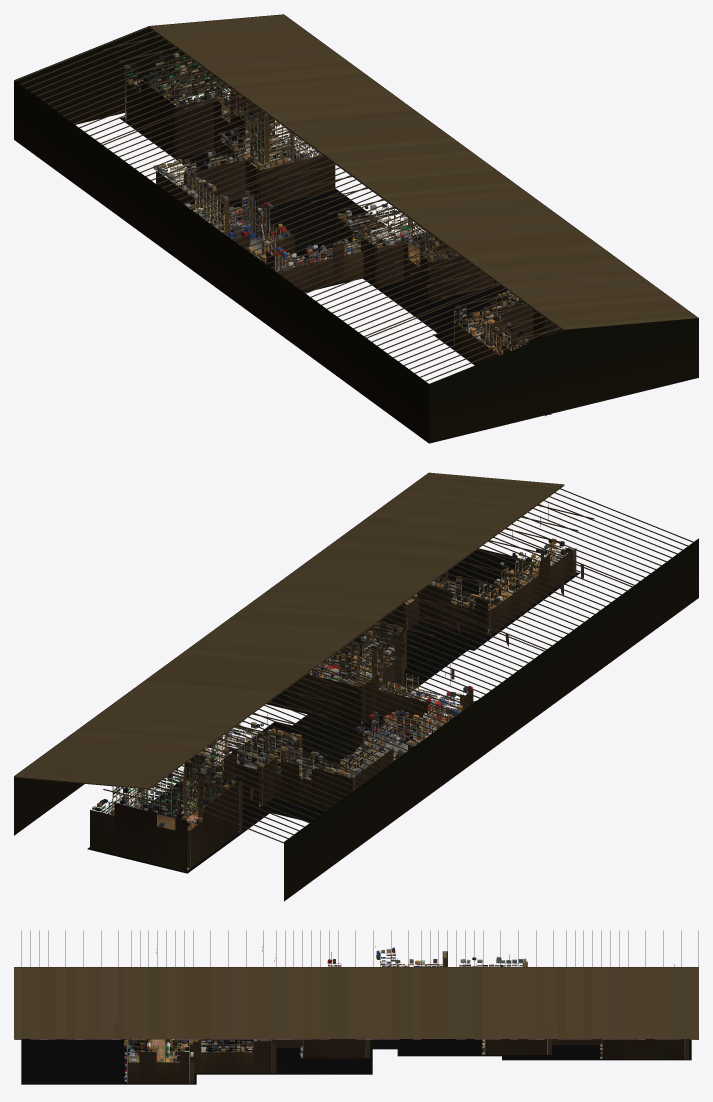
Rendered from attic_deep.glb.
3 views of the same model, one above another, from view 1: azimuth 30°, elevation 25°; view 2: azimuth 150°, elevation 25°; view 3: azimuth 270°, elevation 25° (orthographic). The views are drawn at different scales.
Parts seen in each view (by area): view 1: deep_roof_4, deep_roof_0, deep_roof_3, deep_roof_2, deep_roof_1, deep_metal, deep_members, deep_boss, deep_robotics, deep_holiday; view 2: deep_roof_0, deep_roof_2, deep_roof_1, deep_roof_3, deep_roof_4, deep_boss, deep_metal, deep_members, deep_holiday, deep_robotics; view 3: deep_roof_0, deep_roof_2, deep_roof_1, deep_roof_3, deep_holiday, deep_roof_4, deep_members, deep_boss, deep_metal, deep_robotics.
Boxes of the visible parts, x1=… form: deep_roof_4: x1=365, y1=272, x2=698, y2=443; deep_roof_0: x1=14, y1=14, x2=371, y2=203; deep_roof_3: x1=277, y1=207, x2=638, y2=396; deep_roof_2: x1=190, y1=143, x2=547, y2=332; deep_roof_1: x1=102, y1=79, x2=462, y2=268; deep_metal: x1=153, y1=121, x2=386, y2=249; deep_members: x1=337, y1=204, x2=534, y2=348; deep_boss: x1=120, y1=53, x2=303, y2=171; deep_robotics: x1=184, y1=190, x2=389, y2=292; deep_holiday: x1=433, y1=288, x2=561, y2=415; deep_roof_0: x1=14, y1=712, x2=371, y2=901; deep_roof_2: x1=190, y1=581, x2=547, y2=772; deep_roof_1: x1=102, y1=645, x2=459, y2=836; deep_roof_3: x1=278, y1=517, x2=635, y2=708; deep_roof_4: x1=366, y1=472, x2=698, y2=643; deep_boss: x1=87, y1=741, x2=269, y2=873; deep_metal: x1=181, y1=714, x2=402, y2=822; deep_members: x1=266, y1=620, x2=484, y2=724; deep_holiday: x1=379, y1=503, x2=579, y2=650; deep_robotics: x1=293, y1=636, x2=476, y2=771; deep_roof_0: x1=548, y1=930, x2=698, y2=1039; deep_roof_2: x1=258, y1=930, x2=408, y2=1039; deep_roof_1: x1=403, y1=930, x2=553, y2=1039; deep_roof_3: x1=113, y1=930, x2=263, y2=1039; deep_holiday: x1=21, y1=1039, x2=196, y2=1084; deep_roof_4: x1=14, y1=930, x2=118, y2=1039; deep_members: x1=144, y1=1039, x2=372, y2=1074; deep_boss: x1=502, y1=964, x2=691, y2=1060; deep_metal: x1=397, y1=955, x2=554, y2=1056; deep_robotics: x1=327, y1=946, x2=447, y2=1049.
Size of the model in its own units: 53.23 by 17.2 by 142.
